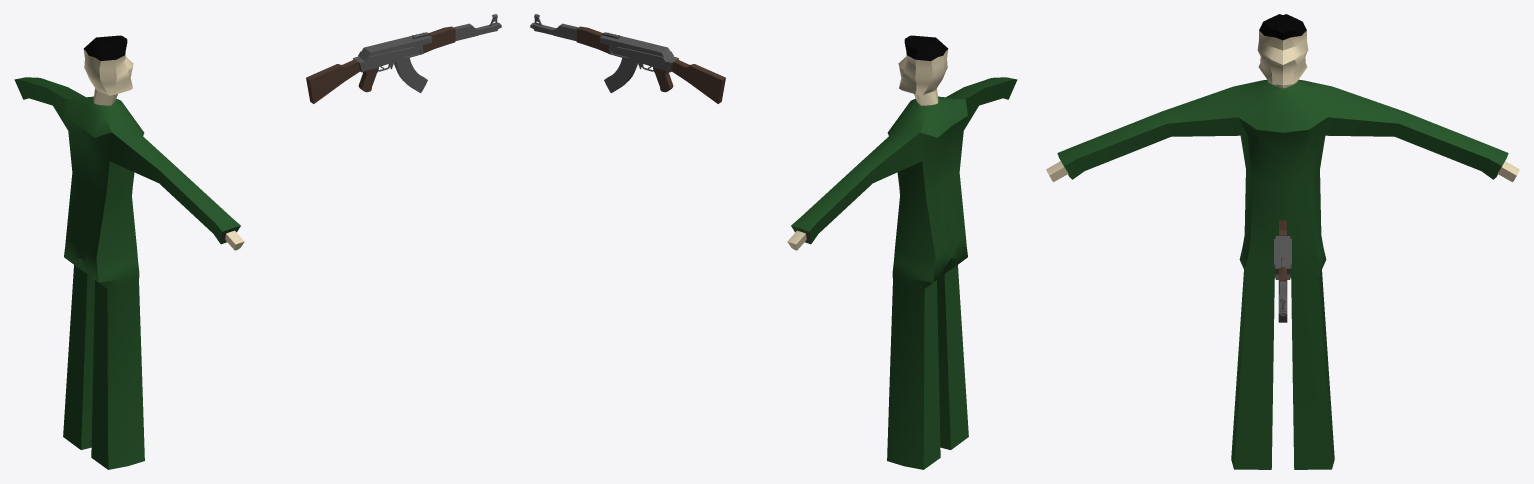
File: player_scaled.glb
3 views of the same model, side by side, from view 1: azimuth 30°, elevation 25°; view 2: azimuth 150°, elevation 25°; view 3: azimuth 270°, elevation 25° (orthographic). The views are drawn at different scales.
Visible parts, largest first — view 1: Cube; view 2: Cube; view 3: Cube.
Boxes of the visible parts, x1,y1,x2,y2 form: Cube: (14, 14, 501, 469); Cube: (530, 14, 1017, 469); Cube: (1046, 14, 1519, 469).
Size of the model in its own units: 70.4 by 65.32 by 63.25.
